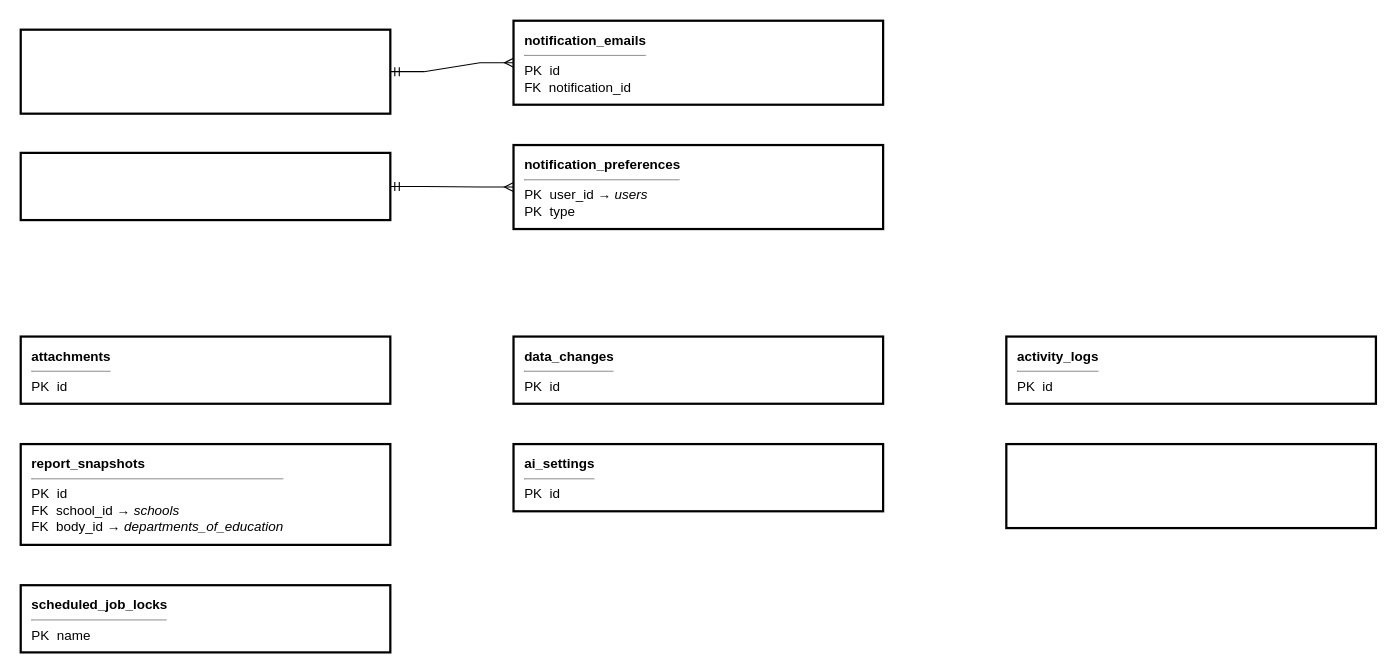
This 1396x672 diagram has some shape labels left out. Here are the shapes that lost their labels. From the top down, the centre of each, then its label:
point 205,71: notifications PK id FK recipient_id → users
point 205,186: notification_type_settings PK type
point 1190,485: ai_calls PK id FK user_id → users
